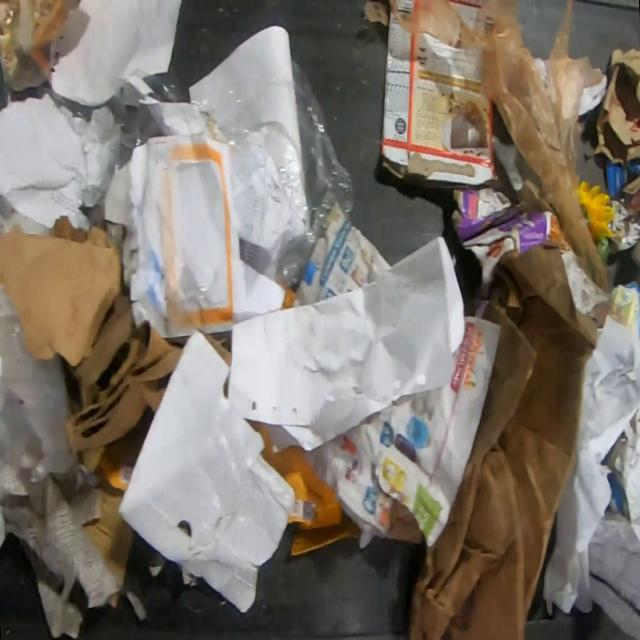cardboard: (405, 247, 598, 640), (116, 326, 294, 615), (0, 212, 186, 450), (380, 0, 498, 187), (450, 184, 609, 313), (592, 45, 640, 195), (586, 280, 640, 348), (450, 0, 483, 31), (0, 48, 10, 120)
soft_plastic: (388, 0, 609, 294), (189, 60, 354, 287), (0, 278, 103, 497), (97, 54, 189, 192)
